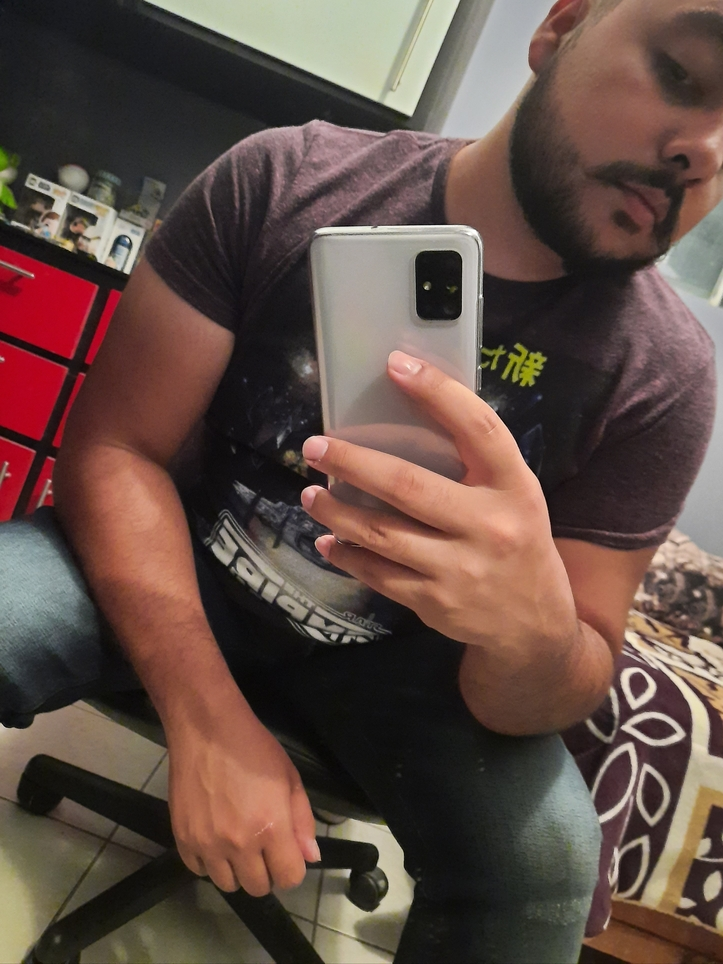Yoshi: (519, 1, 723, 311)
